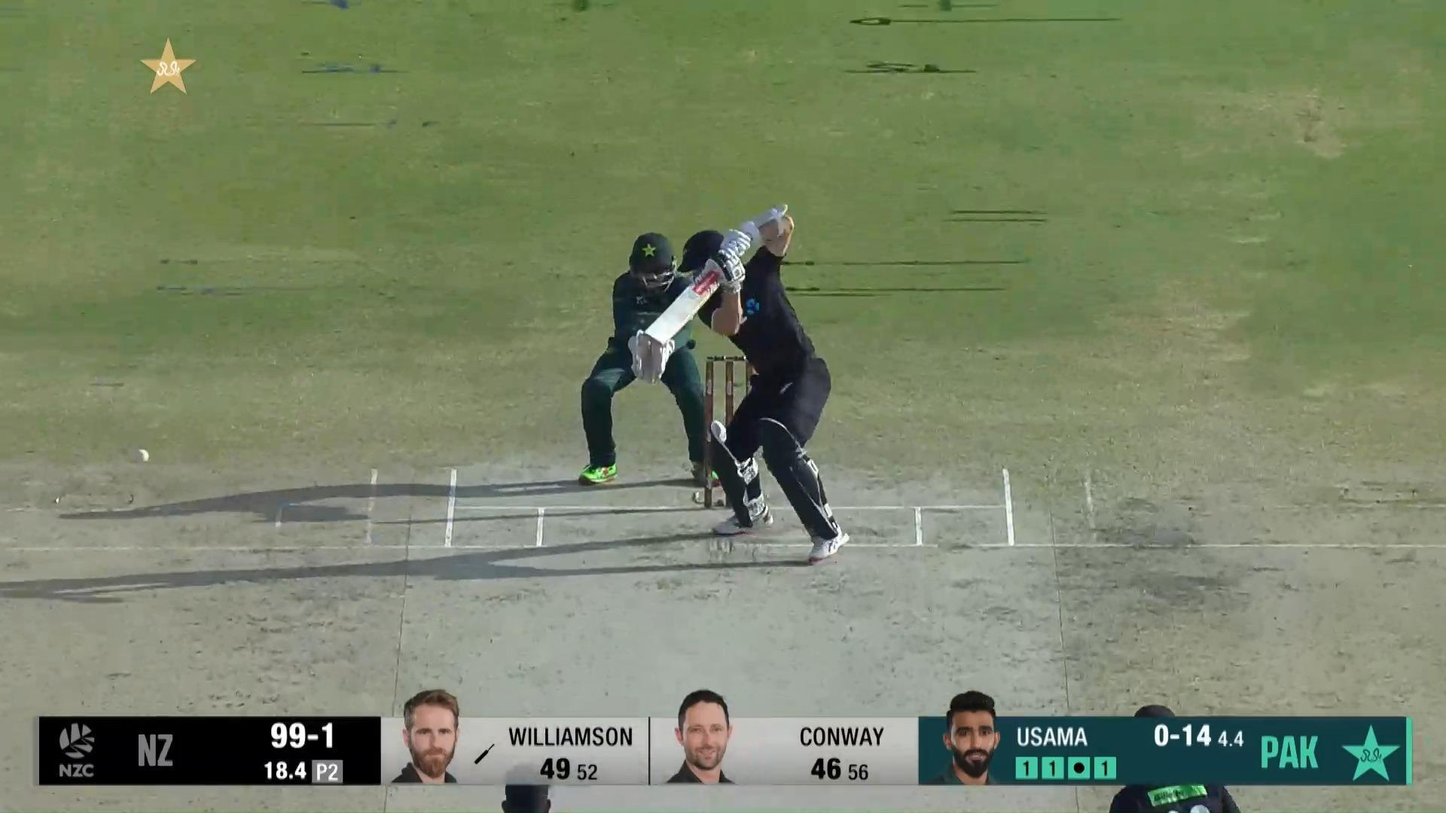BM 1: (644, 203, 851, 565)
BO: (500, 764, 553, 813)
